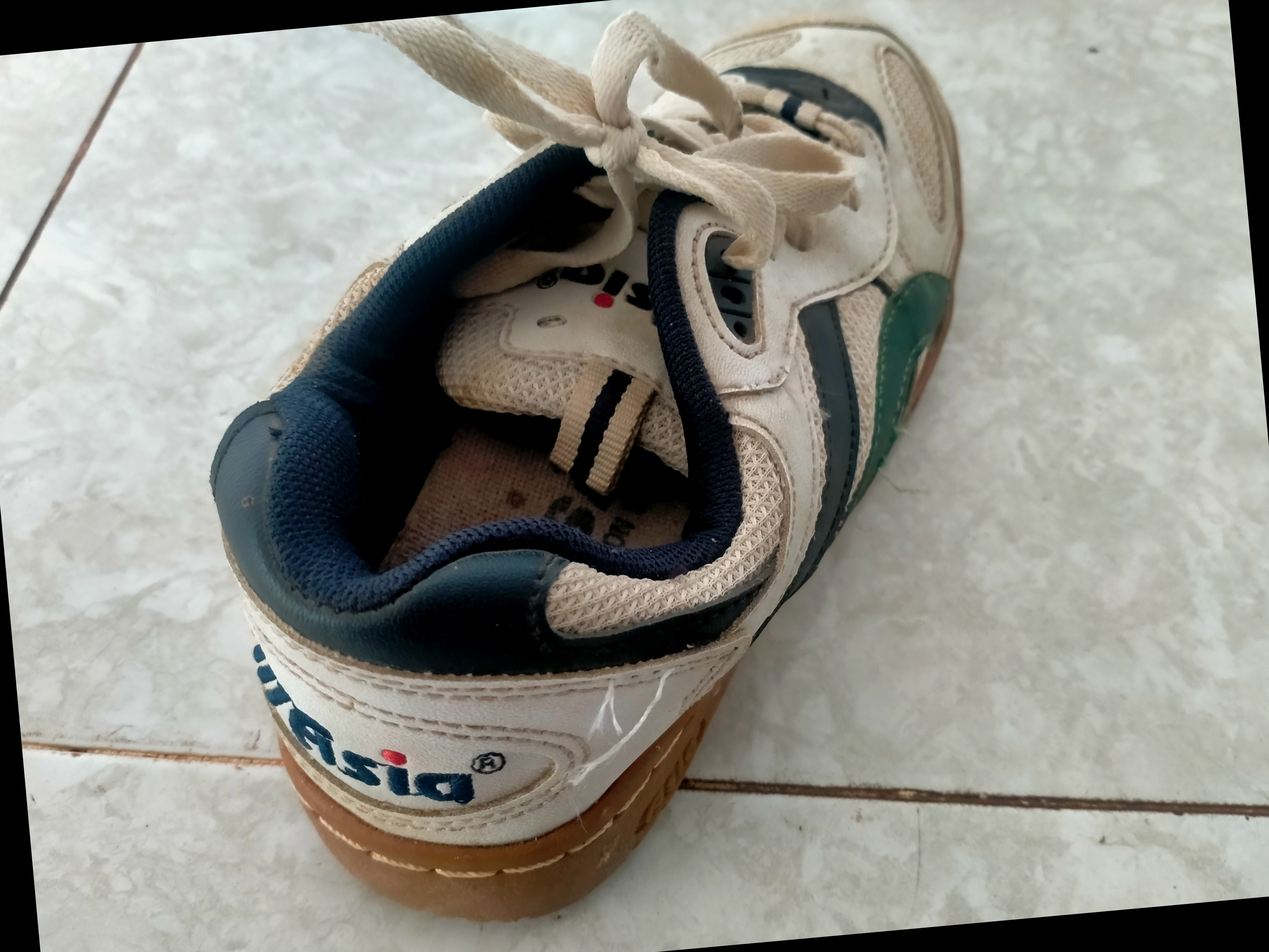broken: (599, 659, 683, 699)
